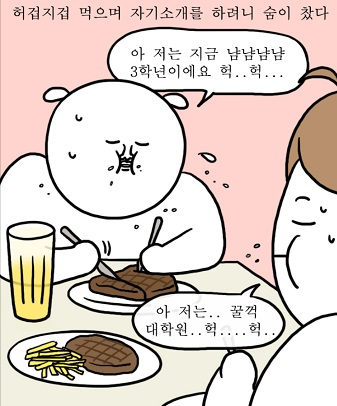cup: (3, 218, 58, 325)
